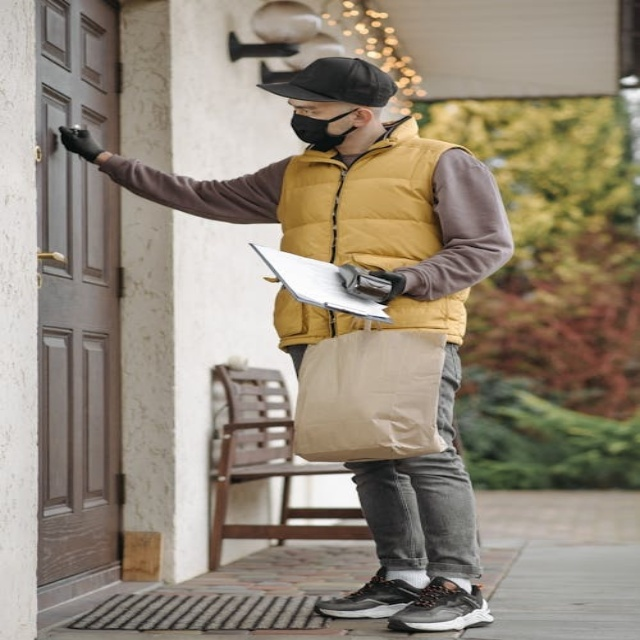Guantes: (342, 265, 407, 305), (58, 125, 107, 164)
Mascara: (290, 109, 359, 150)
Sin_gafas: (287, 100, 329, 119)
